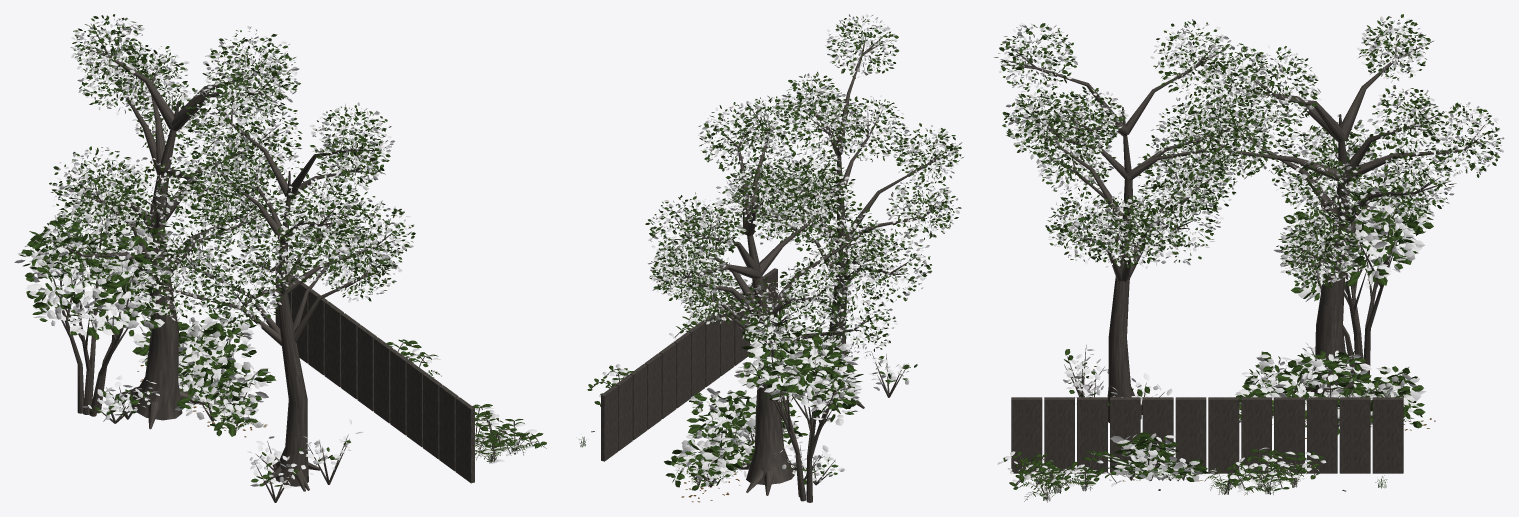
Rendered from SM_Env_Tile_m3_m2.fbx.
3 renders of one model, left to right at view 1: azimuth 30°, elevation 25°; view 2: azimuth 150°, elevation 25°; view 3: azimuth 270°, elevation 25°, orthographic. The views are drawn at different scales.
Parts seen in each view (by area): view 1: SM_Env_Tile_m3_m2; view 2: SM_Env_Tile_m3_m2; view 3: SM_Env_Tile_m3_m2.
Part boxes in pixels (<box>): SM_Env_Tile_m3_m2: <box>14,14,546,502</box>; SM_Env_Tile_m3_m2: <box>579,14,963,502</box>; SM_Env_Tile_m3_m2: <box>994,14,1504,502</box>.
Size of what is drawn, in the model's own units: 1278 by 1557 by 1354.
8 materials, 3 textured.
